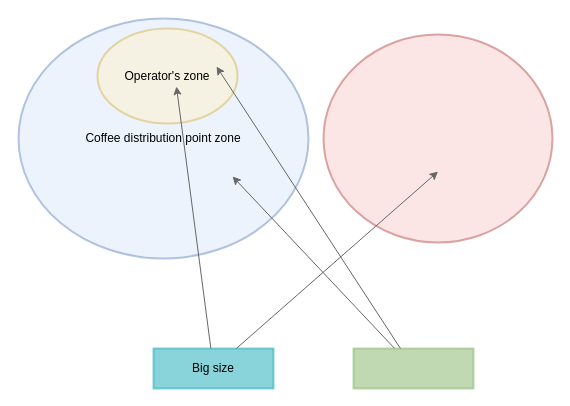
Some shapes in this 570 by 406 pixel diagram are drawn without their labels. Here are the shapes that lost their labels. From the top down, the box of each, then its label:
(322, 33, 553, 243): Coffee consumer's zone
(352, 347, 474, 389): Small size
